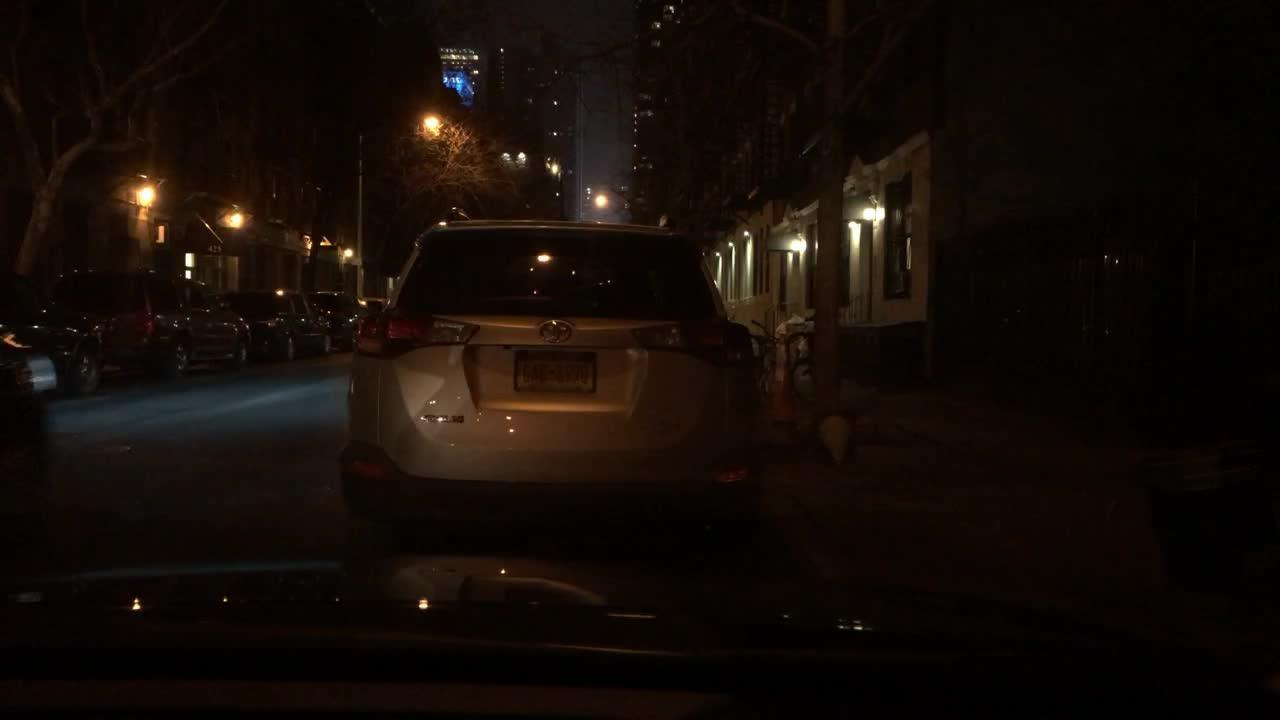Toyota: (536, 308, 586, 351)
